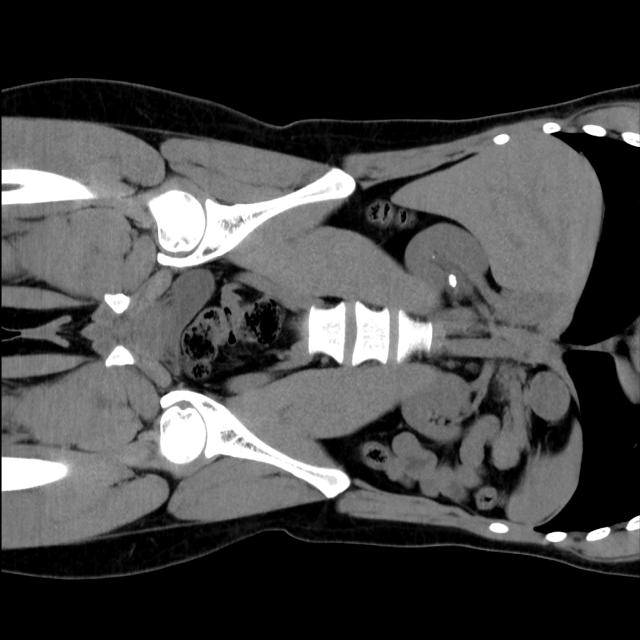kidneystone: (446, 274, 456, 288)
